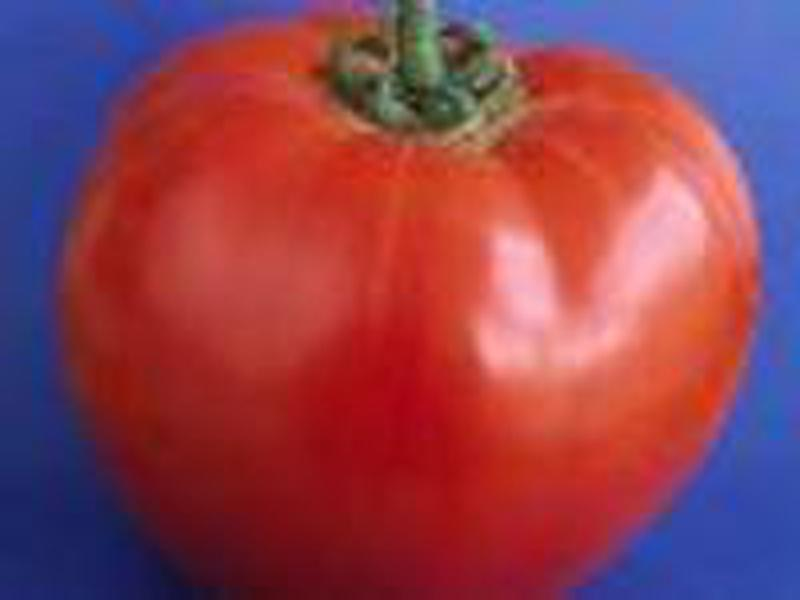Tomato: (55, 5, 759, 595)
